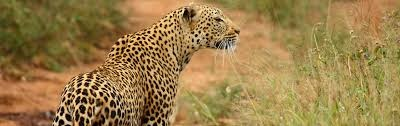leopard: (50, 0, 243, 125)
